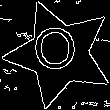O_S: (35, 27, 84, 81)
